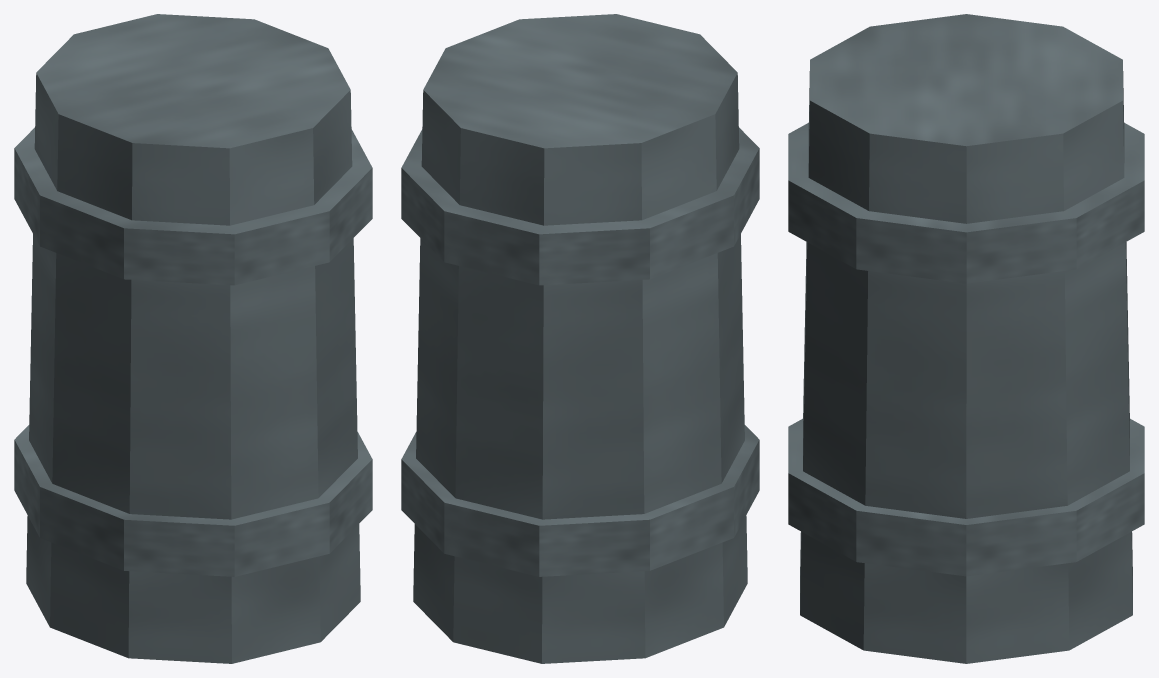
Rendered from pipe_segment_S.fbx.
The picture shows the model from 3 angles, left to right: view 1: azimuth 30°, elevation 25°; view 2: azimuth 150°, elevation 25°; view 3: azimuth 270°, elevation 25°; orthographic projection.
Parts seen in each view (by area): view 1: pipe_segment_S; view 2: pipe_segment_S; view 3: pipe_segment_S.
Part boxes in pixels (x1,y1,x2,y2): pipe_segment_S: [14, 14, 372, 663]; pipe_segment_S: [401, 14, 759, 663]; pipe_segment_S: [788, 14, 1144, 663].
Size of the model in its own units: 44 by 70 by 44.
1 material, 1 textured.
